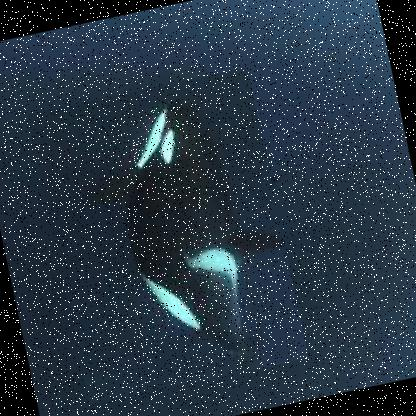killer_whale: (26, 64, 308, 402)
